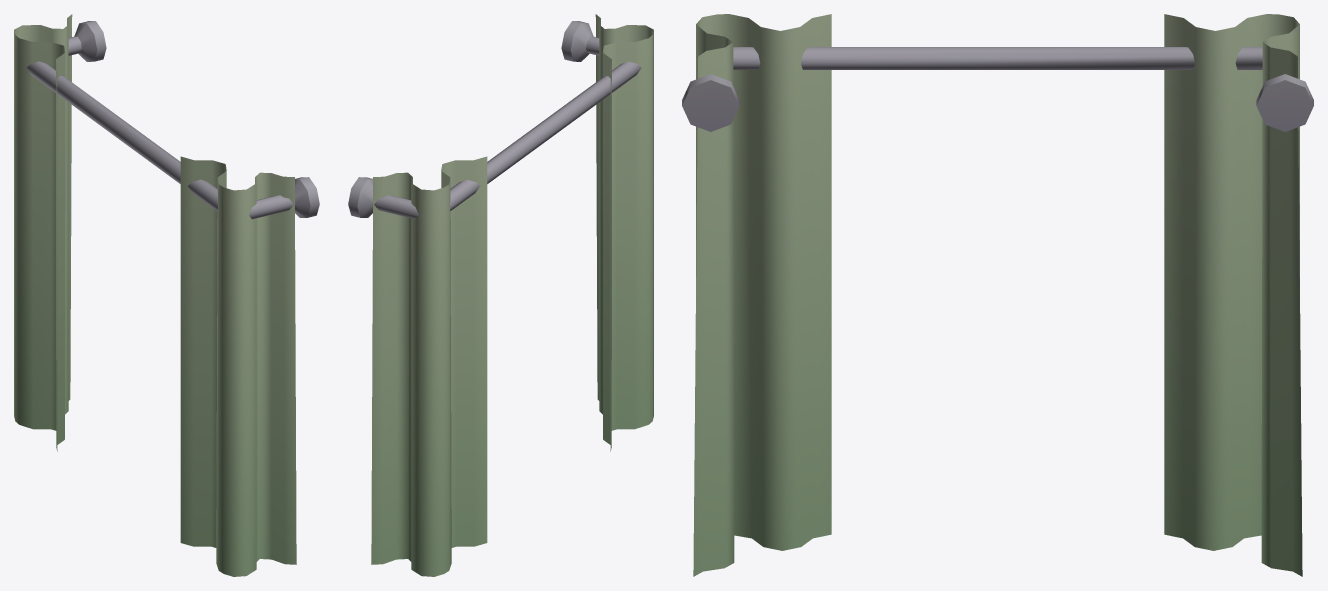
Rendered from curtain-wide-short-open (%wall).glb.
3 renders of one model, left to right at view 1: azimuth 30°, elevation 25°; view 2: azimuth 150°, elevation 25°; view 3: azimuth 270°, elevation 25°, orthographic. The views are drawn at different scales.
Parts seen in each view (by area): view 1: curtain-wide-short-open (%wall); view 2: curtain-wide-short-open (%wall); view 3: curtain-wide-short-open (%wall).
Boxes of the visible parts, x1,y1,x2,y2 form: curtain-wide-short-open (%wall): [14, 14, 319, 576]; curtain-wide-short-open (%wall): [348, 14, 653, 576]; curtain-wide-short-open (%wall): [682, 14, 1313, 576].
Size of the model in its own units: 0.2263 by 1 by 1.1.
